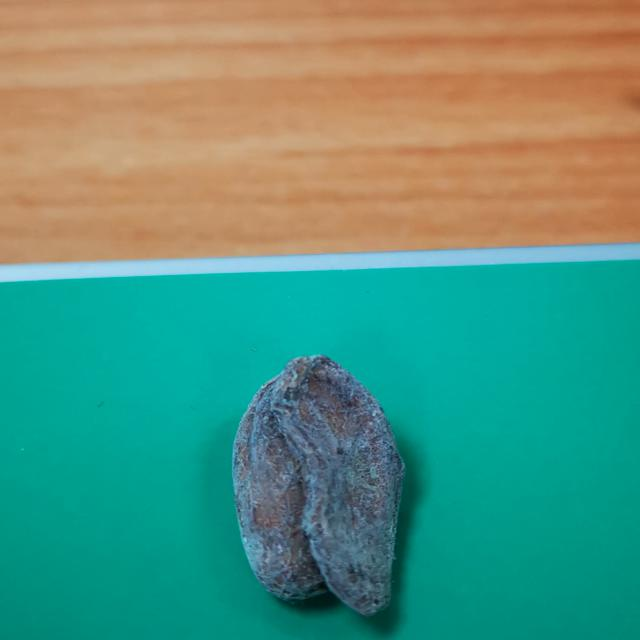Agglomerated_cocoabeans: (117, 317, 523, 640)
